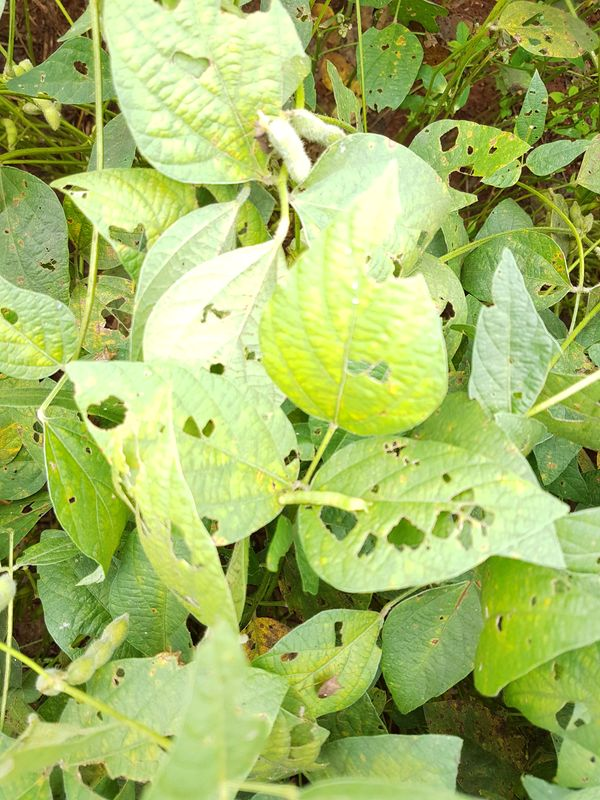Anticarsia_gemmatalis: (268, 475, 381, 535)
Euschistus_heros_adulto: (245, 120, 283, 163), (310, 670, 351, 705), (87, 342, 123, 373)
